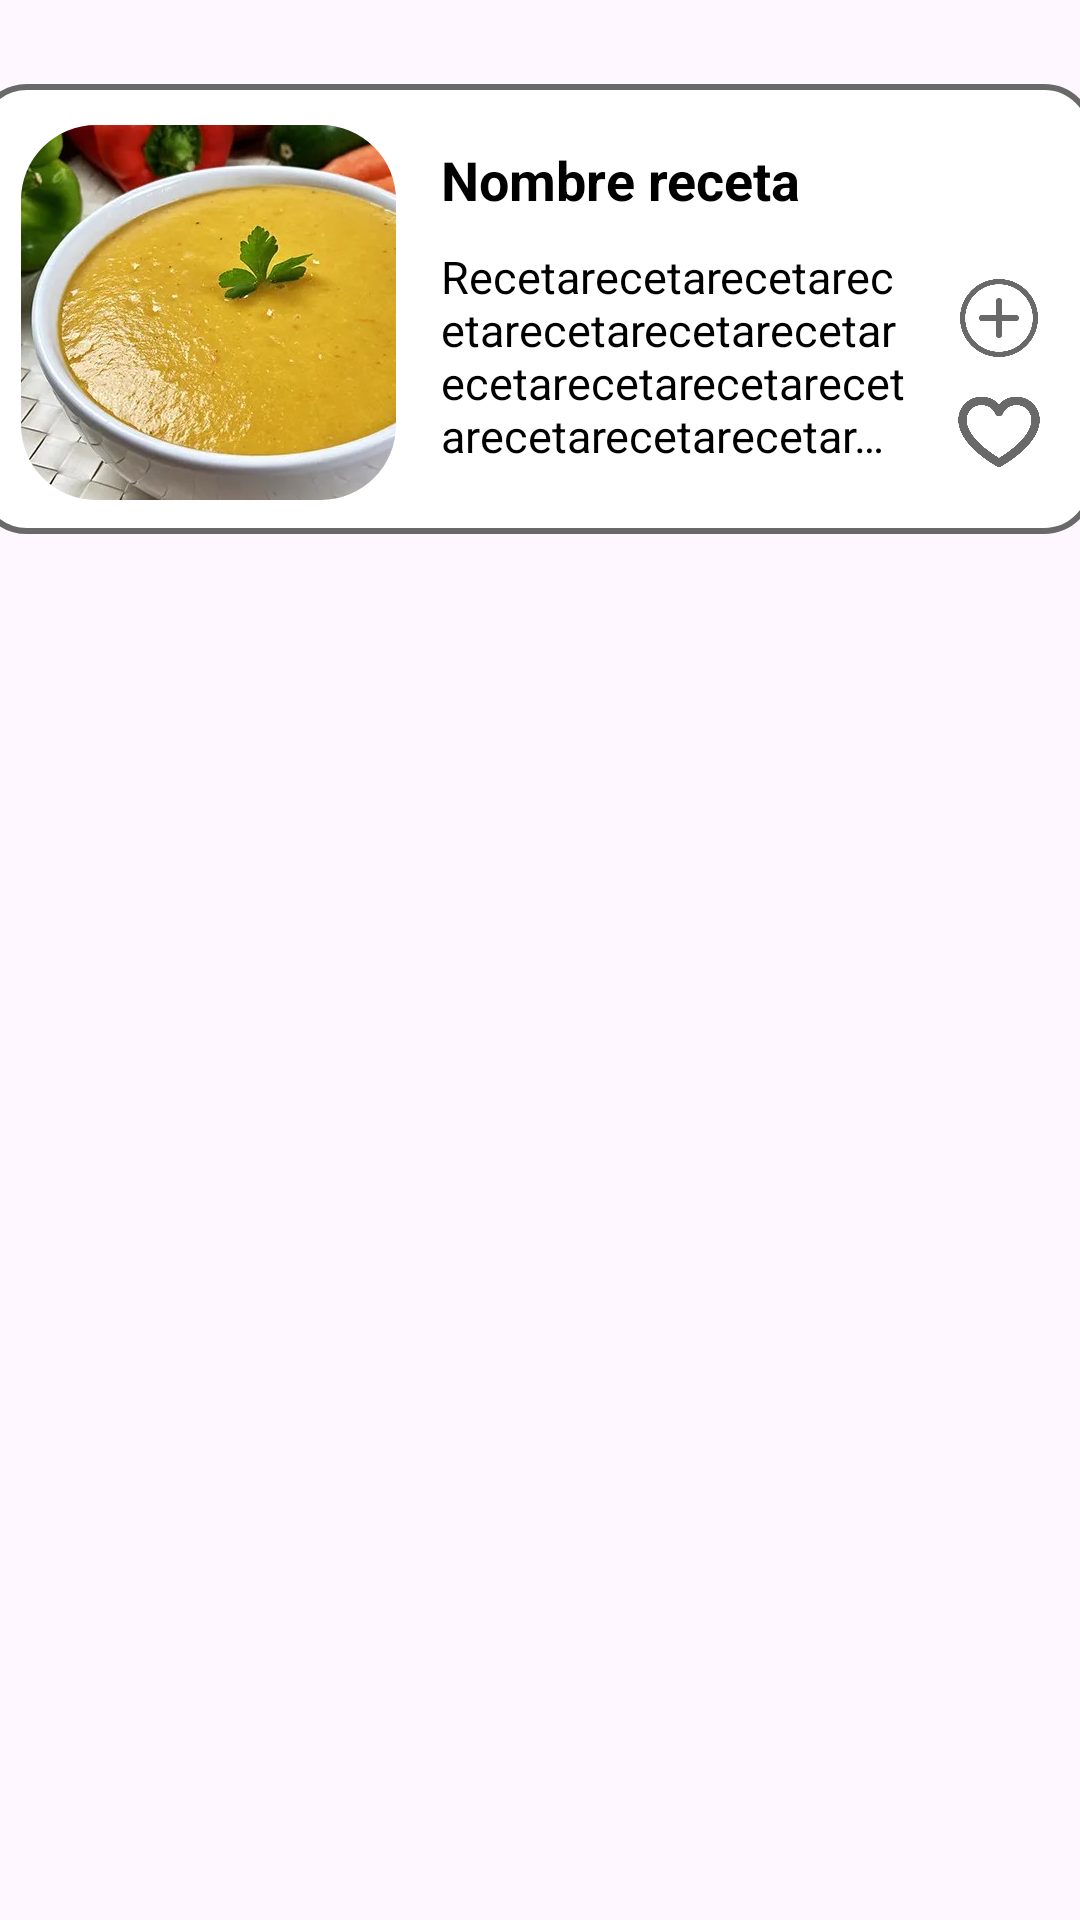

Locate icon controls on the screen. Image size 1080*1920, boxes as (x1, y1, x2, y2).
empty add: (960, 279, 1038, 357)
empty heart: (958, 397, 1040, 467)
